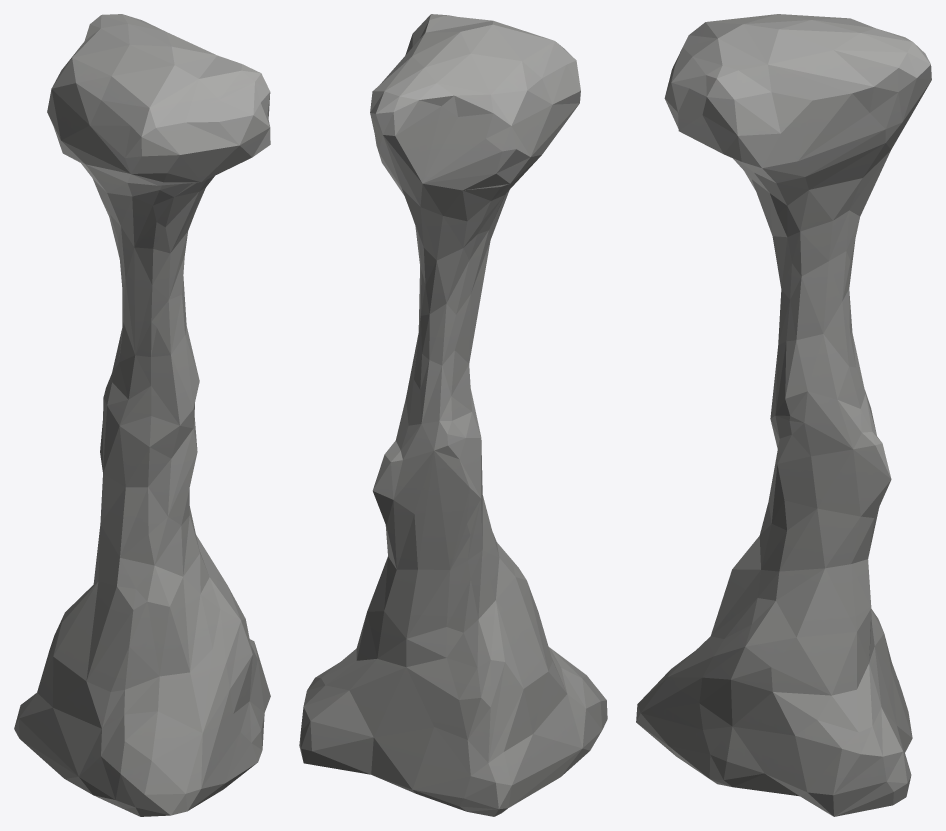
Rendered from Cavern_Pillar-04.fbx.
3 renders of one model, left to right at view 1: azimuth 30°, elevation 25°; view 2: azimuth 150°, elevation 25°; view 3: azimuth 270°, elevation 25°, orthographic. The views are drawn at different scales.
Visible parts, largest first — view 1: Cavern_Pillar-04; view 2: Cavern_Pillar-04; view 3: Cavern_Pillar-04.
Part boxes in pixels (x1,y1,x2,y2): Cavern_Pillar-04: (14,14,270,816); Cavern_Pillar-04: (299,14,607,816); Cavern_Pillar-04: (636,14,931,816).
Size of the model in its own units: 422 by 1258 by 460.
1 material, 1 textured.
